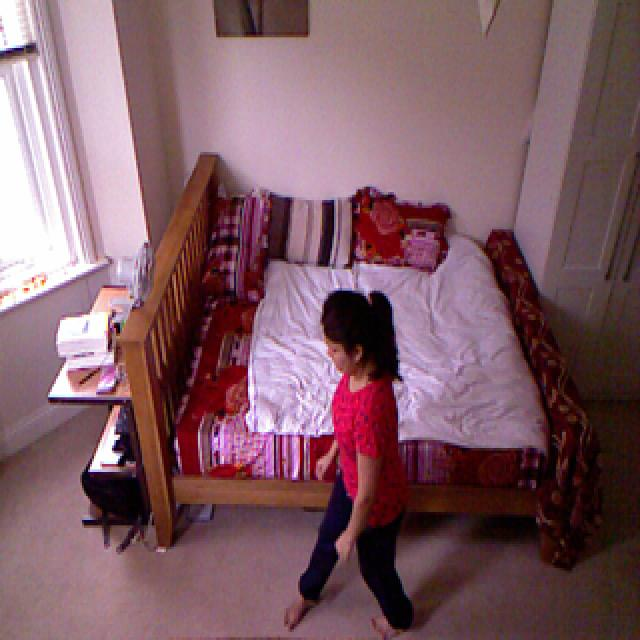standing: (294, 285, 420, 629)
